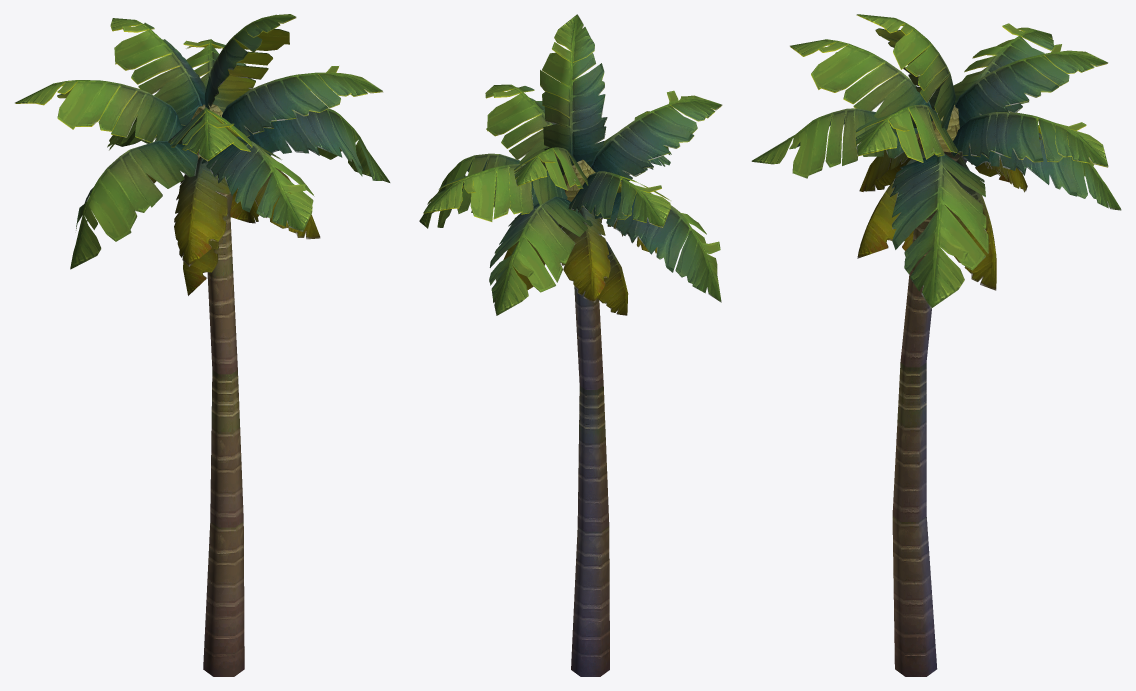
The model's file is scenes_beach_coconut01.FBX.
The picture shows the model from 3 angles, left to right: view 1: azimuth 30°, elevation 25°; view 2: azimuth 150°, elevation 25°; view 3: azimuth 270°, elevation 25°; orthographic projection. The views are drawn at different scales.
Visible parts, largest first — view 1: scenes_beach_coconut01; view 2: scenes_beach_coconut01; view 3: scenes_beach_coconut01.
Part boxes in pixels (left/top/right/bottom): scenes_beach_coconut01: left=15, top=14, right=390, bottom=676; scenes_beach_coconut01: left=419, top=14, right=722, bottom=676; scenes_beach_coconut01: left=751, top=14, right=1121, bottom=676.
Size of the model in its own units: 441 by 872 by 432.
